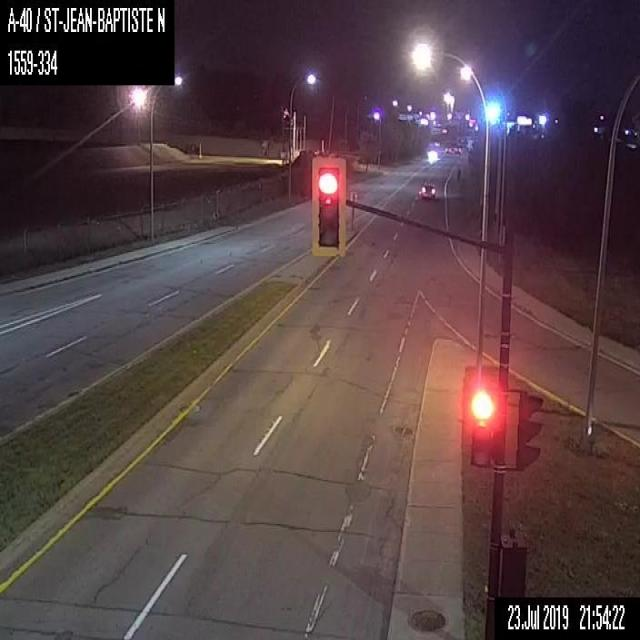pedestrian: (456, 165, 461, 180)
vehicle: (420, 179, 436, 199), (453, 146, 460, 153), (444, 146, 452, 152)
